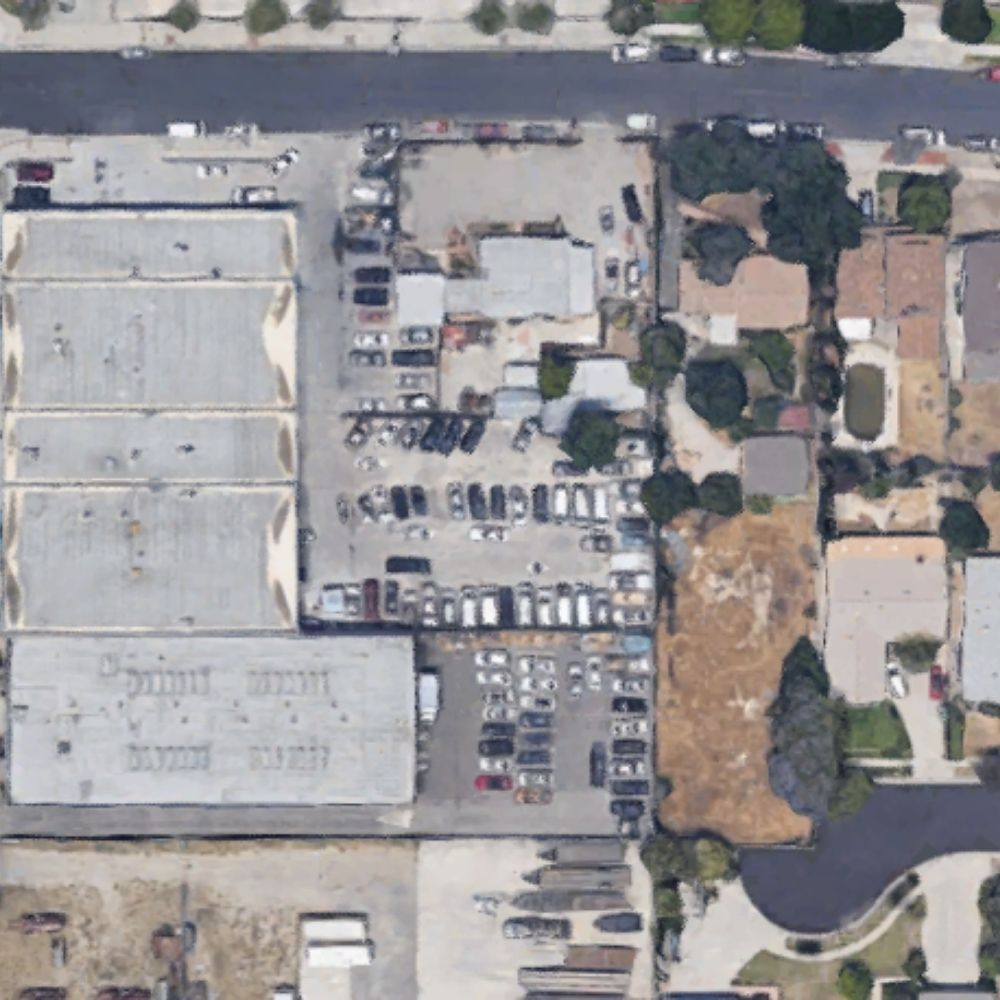parking: (295, 135, 650, 835)
